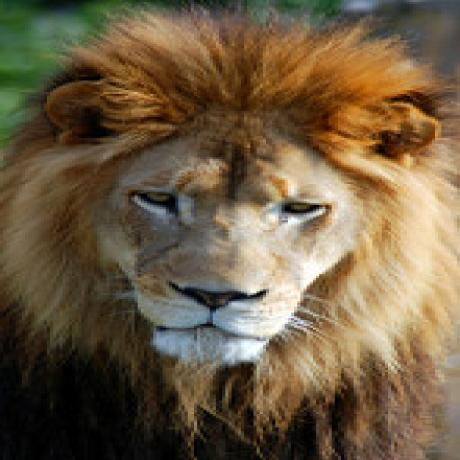Lion: (0, 13, 460, 460)
